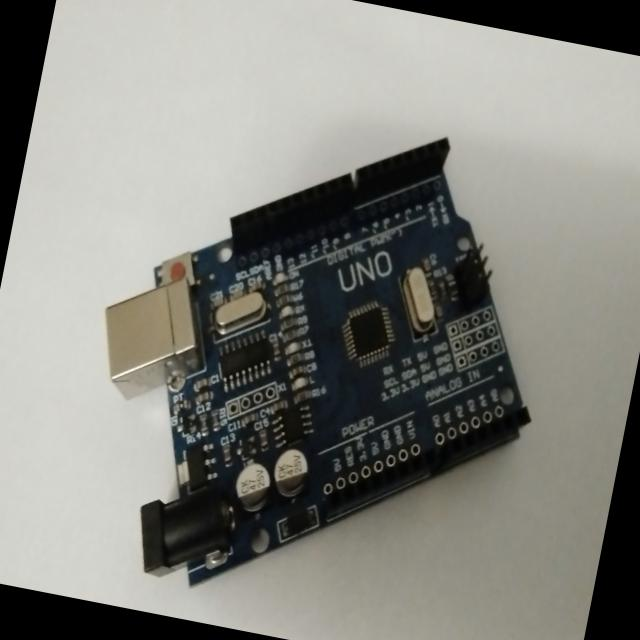arduino: (58, 76, 593, 640)
